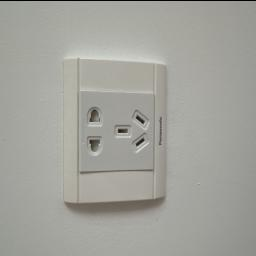outlet: (54, 46, 186, 218)
